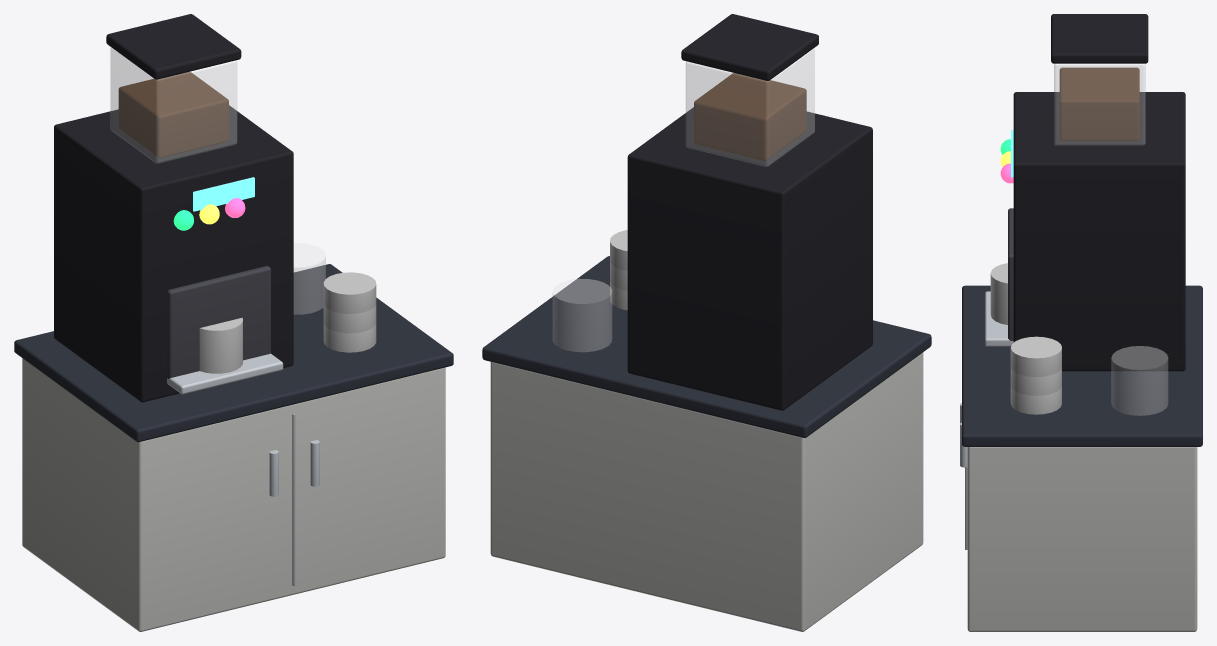
The model's file is coffee-station.glb.
3 renders of one model, left to right at view 1: azimuth 30°, elevation 25°; view 2: azimuth 150°, elevation 25°; view 3: azimuth 270°, elevation 25°, orthographic. The views are drawn at different scales.
Parts seen in each view (by area): view 1: coffee-station-solid, coffee-station-glass, coffee-station-metal, coffee-station-glow; view 2: coffee-station-solid, coffee-station-glass; view 3: coffee-station-solid, coffee-station-glass, coffee-station-metal.
Part boxes in pixels (x1,y1,x2,y2): coffee-station-solid: (14,14,453,631); coffee-station-glass: (110,47,325,314); coffee-station-metal: (167,353,319,496); coffee-station-glow: (193,177,254,211); coffee-station-solid: (482,14,931,631); coffee-station-glass: (553,48,814,351); coffee-station-solid: (962,14,1202,631); coffee-station-glass: (1054,64,1167,415); coffee-station-metal: (960,291,1013,467).
Bounding box in the file's own units: 0.4955 × 0.7712 × 0.3381.
